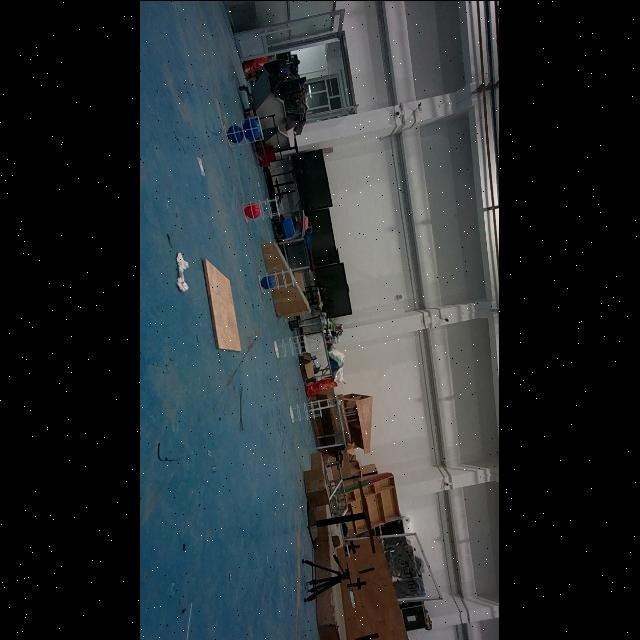B: (243, 118, 261, 140), (228, 122, 245, 144), (262, 275, 276, 289)
S: (223, 114, 267, 148), (242, 192, 282, 222), (256, 266, 298, 294), (272, 332, 312, 360), (288, 397, 328, 423)
